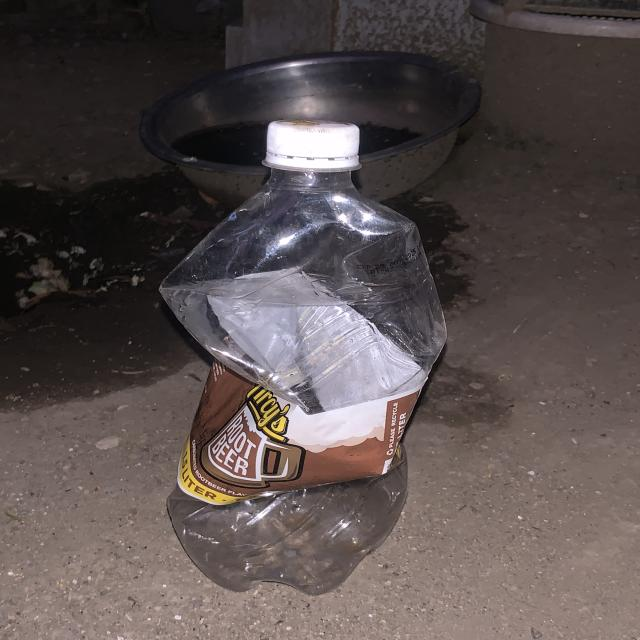Bottle: (159, 120, 446, 594)
